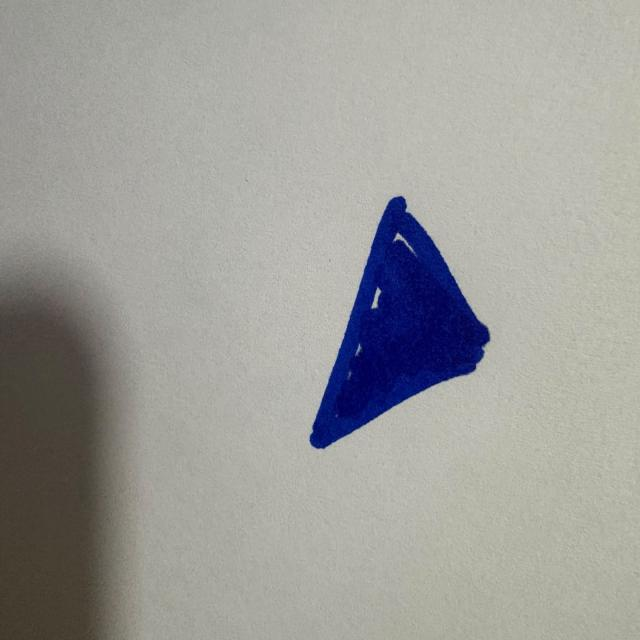Triangle: (310, 196, 490, 448)
